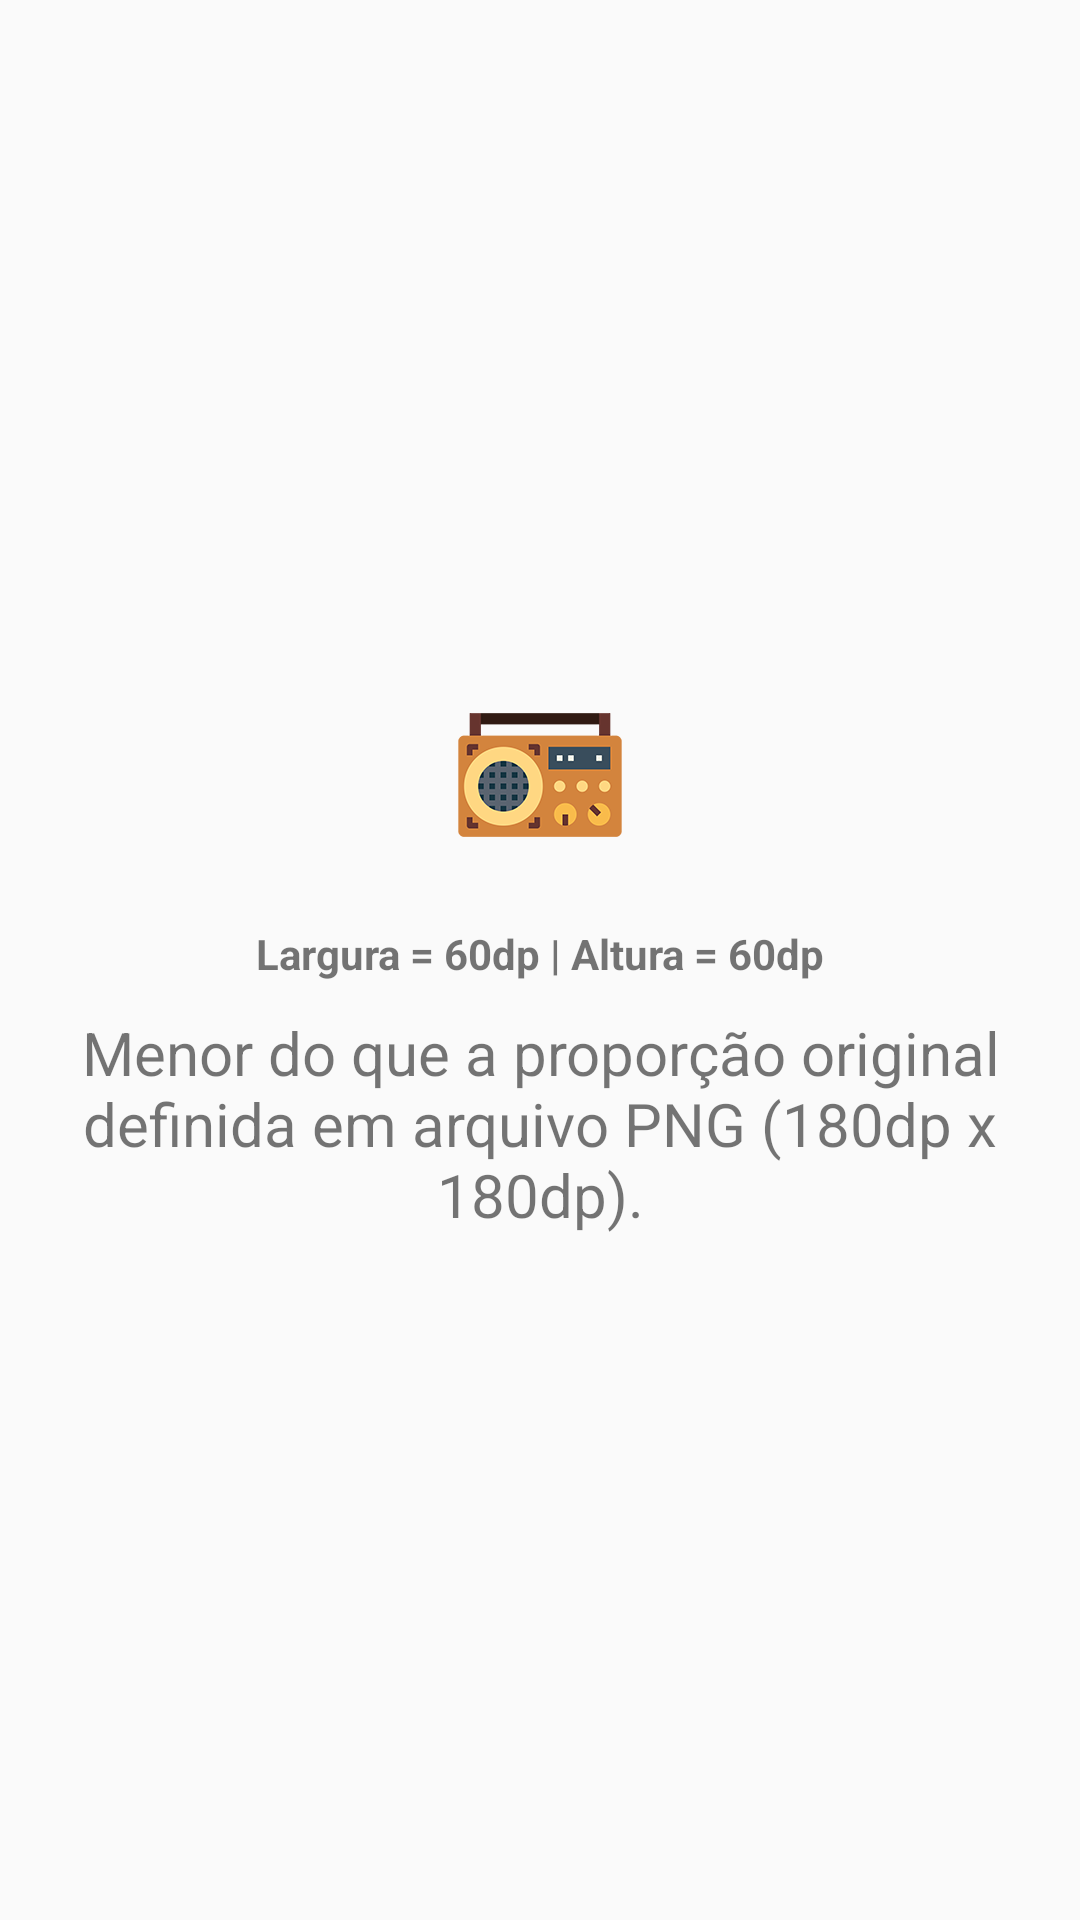

Icon click points for this 1080w x 1920h phone screenshot, format (x=x, y=y):
Drawable rasterizado de rádio: (x=540, y=775)
